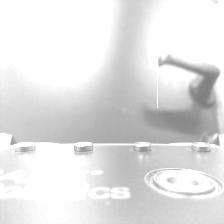Door Handle: (157, 53, 222, 108)
